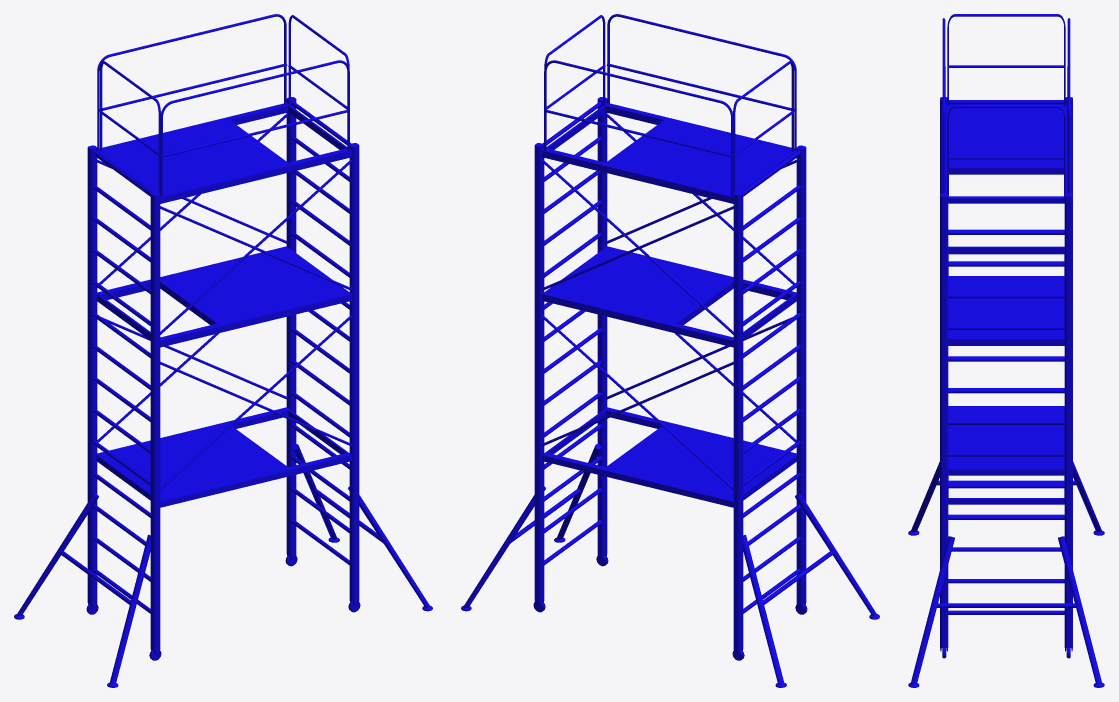
Rendered from Tutorial_Model_Environment_Scaffolding_1.fbx.
The picture shows the model from 3 angles, left to right: view 1: azimuth 30°, elevation 25°; view 2: azimuth 150°, elevation 25°; view 3: azimuth 270°, elevation 25°; orthographic projection.
Visible parts, largest first — view 1: Hatch_Scaffolding_1; view 2: Hatch_Scaffolding_1; view 3: Hatch_Scaffolding_1.
Boxes of the visible parts, left/top/right/bottom form: Hatch_Scaffolding_1: left=14, top=14, right=432, bottom=687; Hatch_Scaffolding_1: left=461, top=14, right=879, bottom=687; Hatch_Scaffolding_1: left=908, top=14, right=1104, bottom=687.
Bounding box in the file's own units: 285 × 466 × 151.
